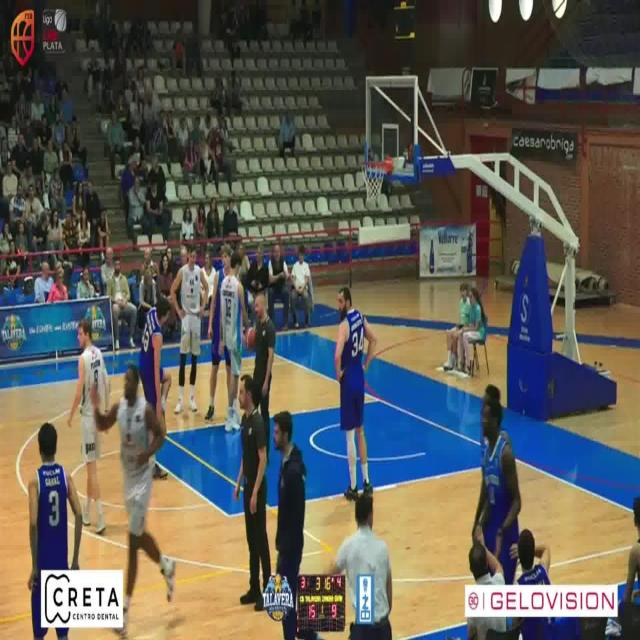ball: (246, 325, 256, 349)
basket: (364, 158, 393, 200)
bench person: (27, 423, 81, 640), (474, 384, 522, 584), (331, 486, 393, 640), (273, 411, 306, 640)
player: (90, 365, 175, 638), (67, 318, 109, 535), (335, 286, 377, 501), (170, 244, 208, 413), (221, 252, 249, 431), (205, 243, 231, 420), (139, 296, 171, 417)
referee: (234, 375, 271, 612), (253, 291, 275, 454)
